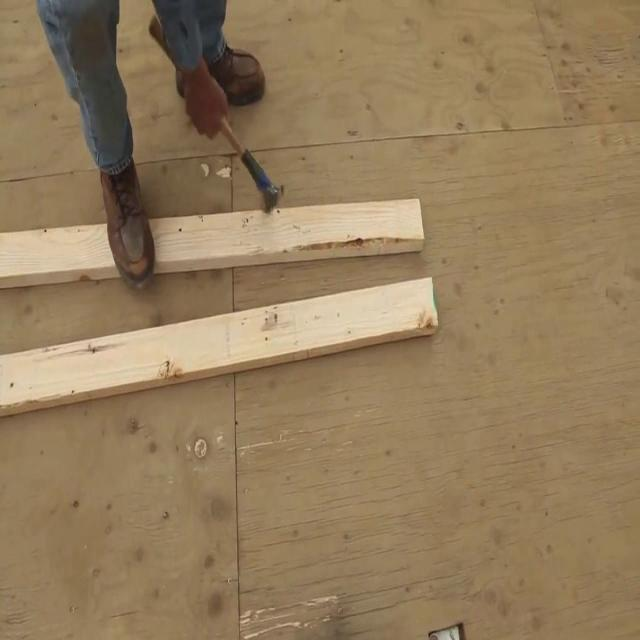hammer: (150, 15, 284, 214)
